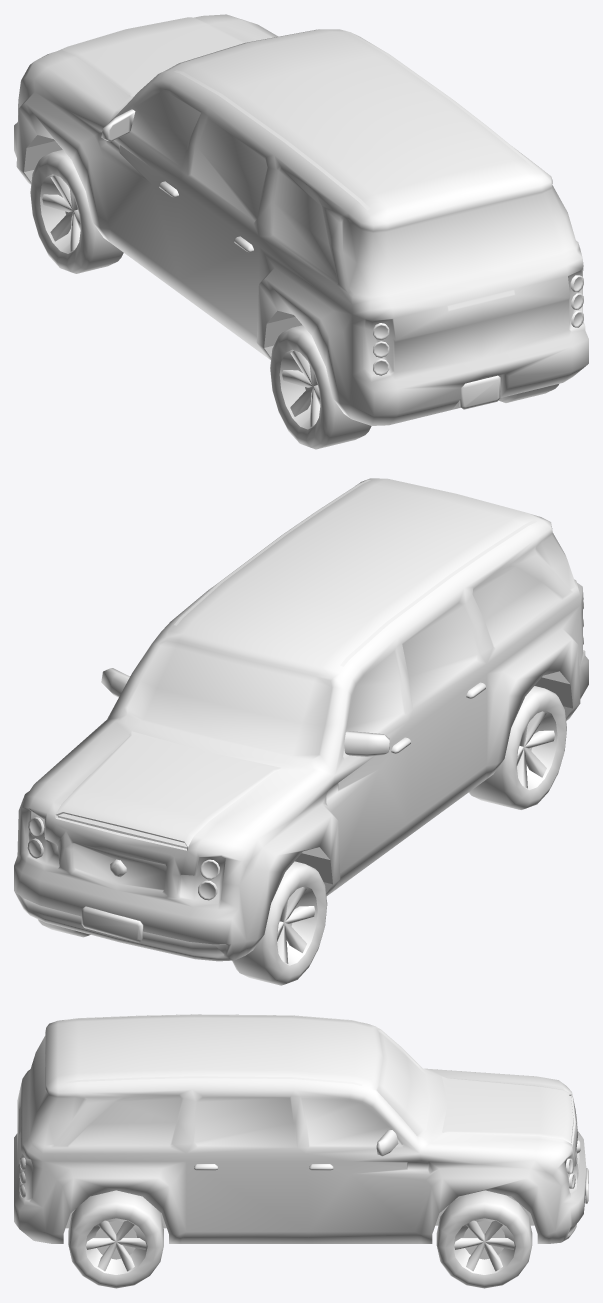
The model's file is Car_02_rev2.fbx.
3 views of the same model, one above another, from view 1: azimuth 30°, elevation 25°; view 2: azimuth 150°, elevation 25°; view 3: azimuth 270°, elevation 25° (orthographic). The views are drawn at different scales.
Visible parts, largest first — view 1: polySurface75, polySurface74, Wheel_18B_R.L.001, Wheel_18B_F.L.001, pCylinder9; view 2: polySurface75, polySurface74, Wheel_18B_R.L.001, Wheel_18B_F.L.001, pCylinder9; view 3: polySurface75, Wheel_18B_R.R.001, Wheel_18B_F.R.001, polySurface74.
Boxes of the visible parts, x1=… form: polySurface75: x1=14, y1=14, x2=588, y2=425; polySurface74: x1=58, y1=17, x2=244, y2=96; Wheel_18B_R.L.001: x1=270, y1=325, x2=371, y2=449; Wheel_18B_F.L.001: x1=30, y1=150, x2=123, y2=273; pCylinder9: x1=24, y1=135, x2=302, y2=357; polySurface75: x1=14, y1=478, x2=588, y2=961; polySurface74: x1=55, y1=731, x2=280, y2=850; Wheel_18B_R.L.001: x1=469, y1=686, x2=566, y2=809; Wheel_18B_F.L.001: x1=232, y1=861, x2=327, y2=985; pCylinder9: x1=295, y1=671, x2=572, y2=893; polySurface75: x1=14, y1=1014, x2=588, y2=1243; Wheel_18B_R.R.001: x1=68, y1=1190, x2=163, y2=1288; Wheel_18B_F.R.001: x1=436, y1=1190, x2=532, y2=1288; polySurface74: x1=442, y1=1076, x2=575, y2=1146.
Size of the model in its own units: 406 by 357 by 917.
Materials: 1 (1 with a texture image).
